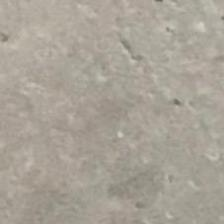Non_Crack: (27, 18, 188, 168)
